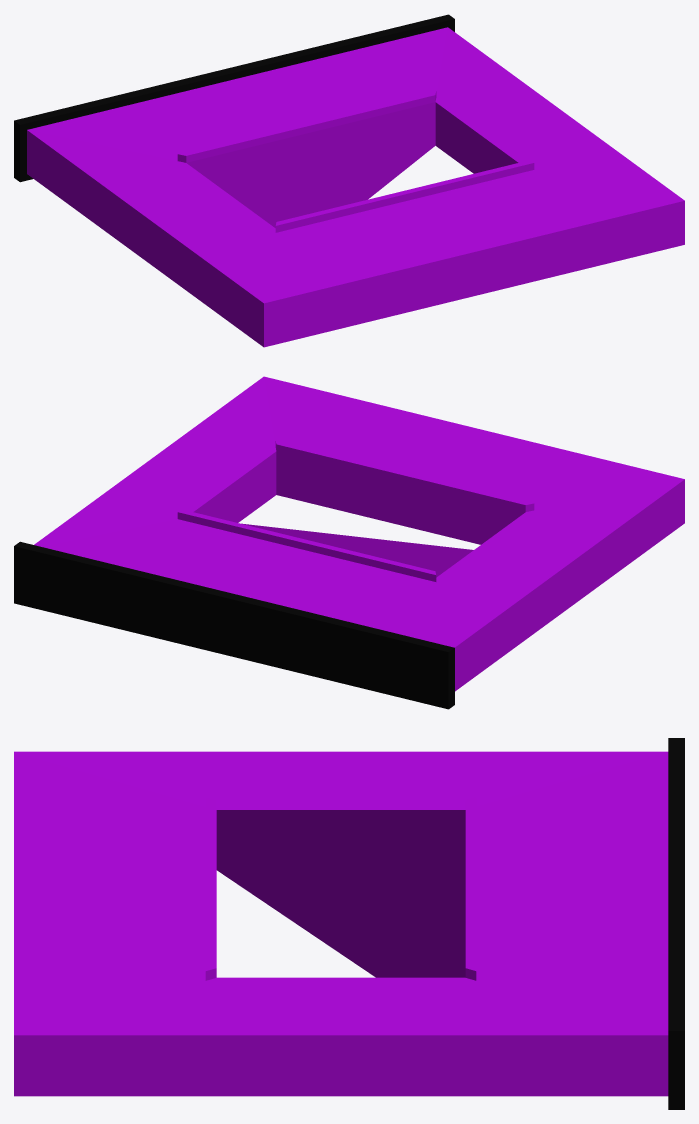
Rendered from Wall-3.fbx.
3 renders of one model, top to bottom at view 1: azimuth 30°, elevation 25°; view 2: azimuth 150°, elevation 25°; view 3: azimuth 270°, elevation 25°, orthographic. The views are drawn at different scales.
Parts seen in each view (by area): view 1: Plane; view 2: Plane; view 3: Plane.
Part boxes in pixels (left/top/right/bottom): Plane: left=14, top=14, right=684, bottom=347; Plane: left=14, top=376, right=684, bottom=709; Plane: left=14, top=738, right=684, bottom=1109.
Bounding box in the file's own units: 207 × 26.08 × 200.
